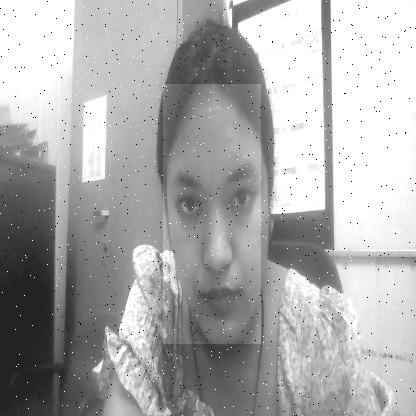Normal: (163, 84, 261, 344)
